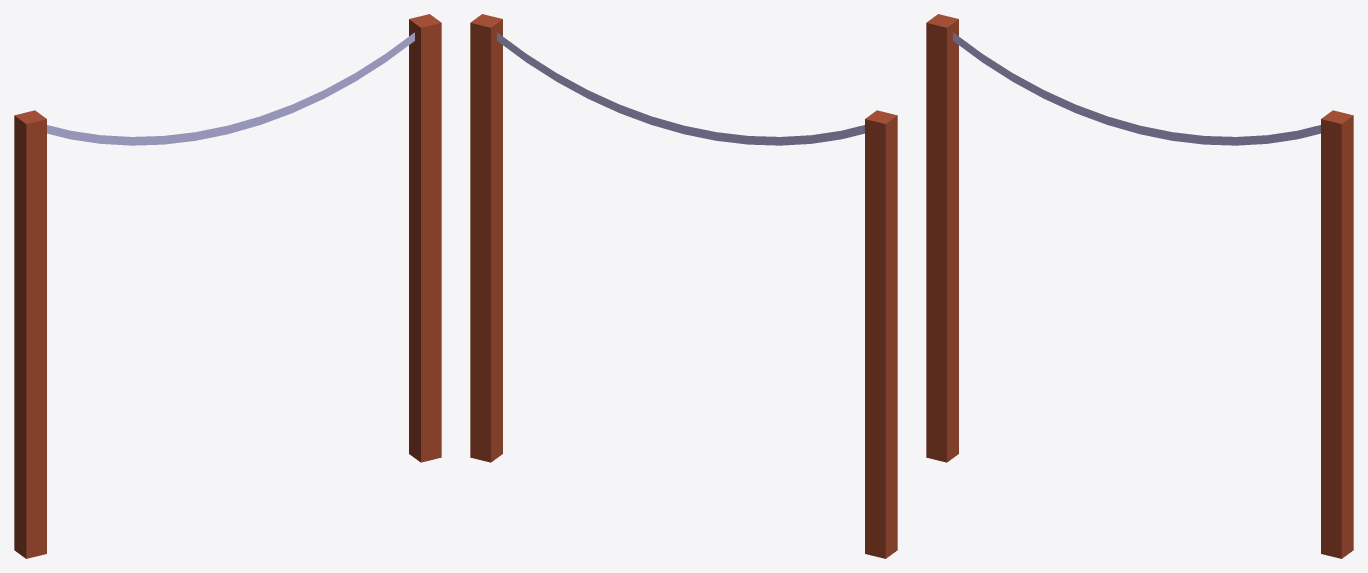
Rendered from Pilars.fbx.
3 renders of one model, left to right at view 1: azimuth 30°, elevation 25°; view 2: azimuth 150°, elevation 25°; view 3: azimuth 330°, elevation 25°, orthographic.
Visible parts, largest first — view 1: mergedBlocks; view 2: mergedBlocks; view 3: mergedBlocks.
Boxes of the visible parts, left/top/right/bottom form: mergedBlocks: left=14, top=14, right=441, bottom=558; mergedBlocks: left=470, top=14, right=897, bottom=558; mergedBlocks: left=926, top=14, right=1353, bottom=558.
Size of the model in its own units: 10 by 10 by 0.5.
